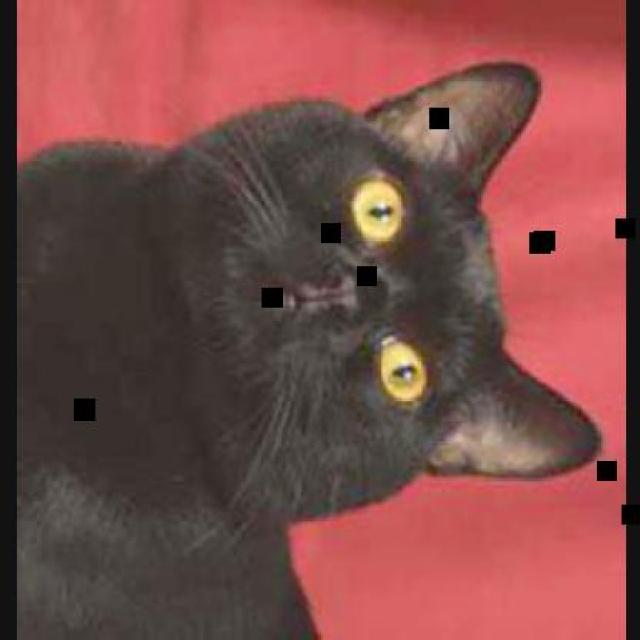unauthorized: (16, 58, 602, 564)
